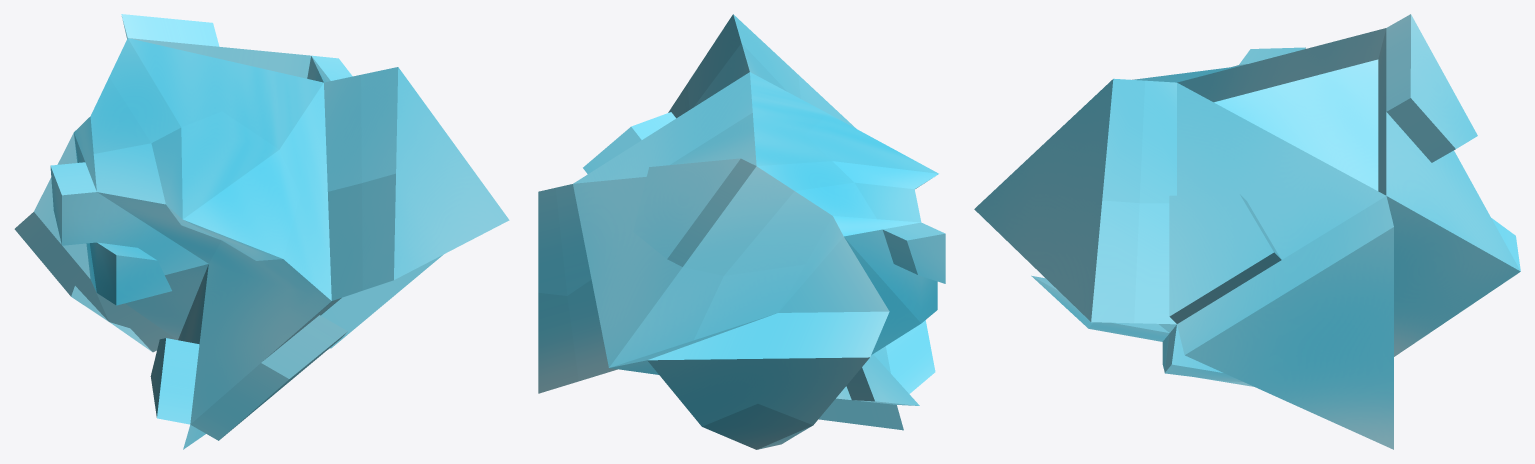
The model's file is IceChunkI.fbx.
3 renders of one model, left to right at view 1: azimuth 30°, elevation 25°; view 2: azimuth 150°, elevation 25°; view 3: azimuth 270°, elevation 25°, orthographic. The views are drawn at different scales.
Parts seen in each view (by area): view 1: pPlatonic1; view 2: pPlatonic1; view 3: pPlatonic1.
Boxes of the visible parts, left/top/right/bottom form: pPlatonic1: left=14, top=14, right=509, bottom=449; pPlatonic1: left=538, top=14, right=945, bottom=449; pPlatonic1: left=974, top=14, right=1520, bottom=449.
Size of the model in its own units: 2.05 by 1.84 by 2.33.
1 material, 1 textured.
